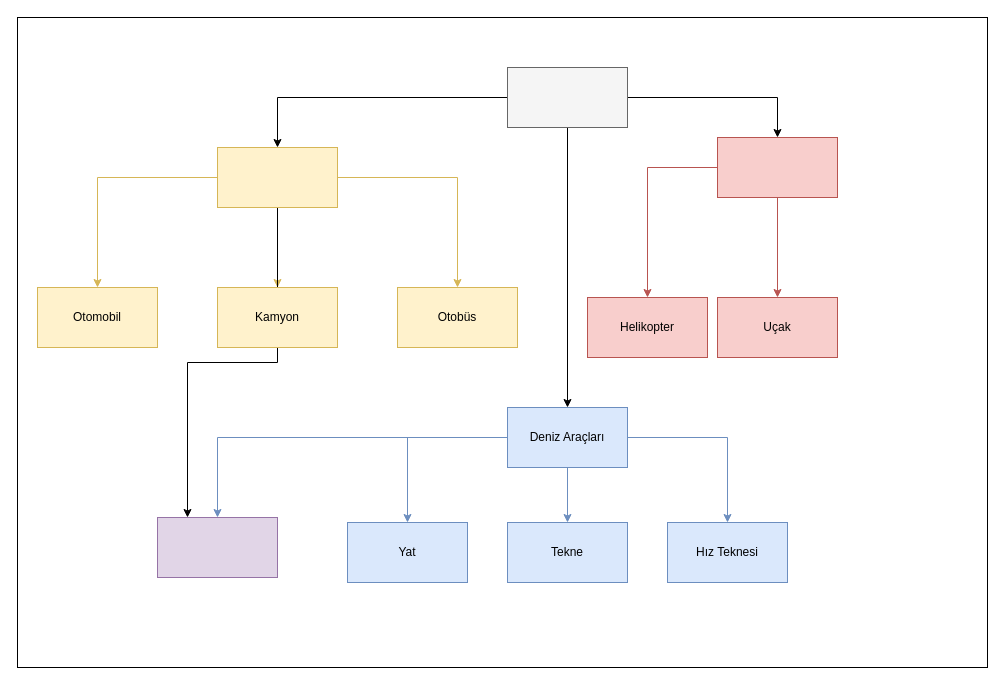
The diagram is 1005 pixels wide and 685 high, and some of its shapes have lost their labels. Here are the shapes that lost their labels. From the top down, the centre of each, then its label:
the point at 567,97: Arac
the point at 277,177: Kara Araçları
the point at 777,167: Hava Araçları
the point at 217,547: HoverCraft
